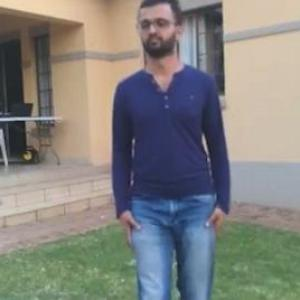follow: (114, 7, 222, 299)
